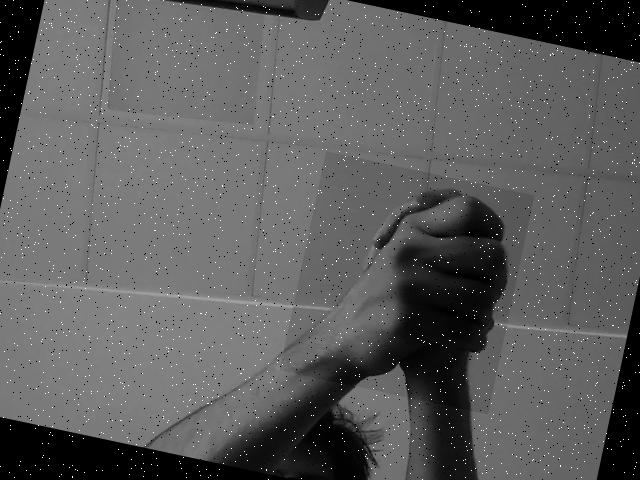friend: (286, 178, 519, 394)
